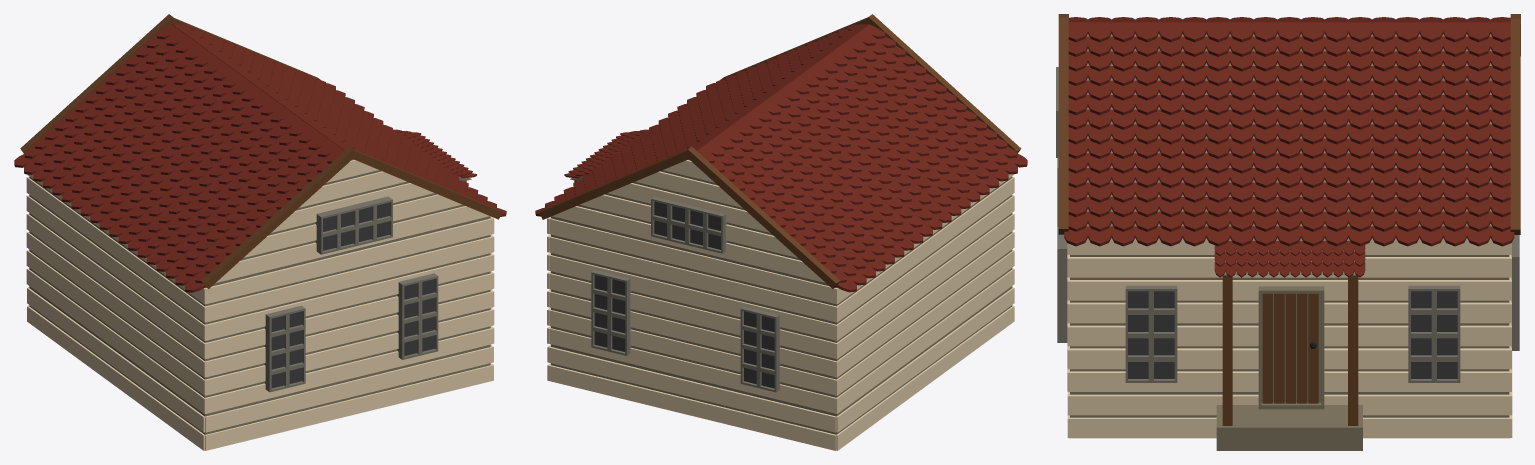
File: house_rlly_small.fbx
3 views of the same model, side by side, from view 1: azimuth 30°, elevation 25°; view 2: azimuth 150°, elevation 25°; view 3: azimuth 270°, elevation 25° (orthographic). The views are drawn at different scales.
Visible parts, largest first — view 1: Cube.125, Cube.115, Cube.118, Cube.114, Cube.126, Cube.121, Cube.124, Cube.117, Cube.138, Cube.136, Cube.137, Cube.144 (+3 smaller); view 2: Cube.125, Cube.120, Cube.118, Cube.114, Cube.126, Cube.122, Cube.123, Cube.117, Cube.139, Cube.135, Cube.140, Cube.141 (+3 smaller); view 3: Cube.126, Cube.119, Cube.114, Cube.116, Cube.128, Cube.134, Cube.133, Cube.130, Cube.129, Cube.125, Cube.143, Cube.142 (+4 smaller).
Boxes of the visible parts, left/top/right/bottom form: Cube.125: left=14, top=24, right=344, bottom=292; Cube.115: left=205, top=218, right=493, bottom=413; Cube.118: left=26, top=174, right=205, bottom=413; Cube.114: left=29, top=159, right=490, bottom=434; Cube.126: left=172, top=24, right=506, bottom=216; Cube.121: left=205, top=346, right=493, bottom=450; Cube.124: left=216, top=160, right=489, bottom=282; Cube.117: left=27, top=287, right=205, bottom=450; Cube.138: left=315, top=196, right=392, bottom=254; Cube.136: left=264, top=305, right=305, bottom=392; Cube.137: left=397, top=273, right=438, bottom=359; Cube.144: left=201, top=146, right=354, bottom=288; Cube.125: left=697, top=24, right=1027, bottom=292; Cube.120: left=549, top=217, right=836, bottom=413; Cube.118: left=834, top=174, right=1014, bottom=413; Cube.114: left=551, top=159, right=1012, bottom=434; Cube.126: left=535, top=24, right=868, bottom=216; Cube.122: left=547, top=346, right=836, bottom=450; Cube.123: left=552, top=160, right=825, bottom=282; Cube.117: left=835, top=287, right=1014, bottom=450; Cube.139: left=740, top=306, right=780, bottom=392; Cube.135: left=591, top=270, right=631, bottom=355; Cube.140: left=651, top=196, right=726, bottom=253; Cube.141: left=684, top=146, right=840, bottom=288; Cube.126: left=1064, top=22, right=1514, bottom=246; Cube.119: left=1067, top=238, right=1511, bottom=391; Cube.114: left=1070, top=34, right=1509, bottom=450; Cube.116: left=1068, top=394, right=1510, bottom=438; Cube.128: left=1262, top=293, right=1318, bottom=403; Cube.134: left=1408, top=285, right=1460, bottom=382; Cube.133: left=1125, top=285, right=1177, bottom=382; Cube.130: left=1214, top=241, right=1365, bottom=277; Cube.129: left=1258, top=286, right=1324, bottom=409; Cube.125: left=1069, top=17, right=1510, bottom=22; Cube.143: left=1058, top=17, right=1068, bottom=234; Cube.142: left=1510, top=18, right=1520, bottom=234.
Size of the model in its own units: 1841 by 1352 by 1694.
